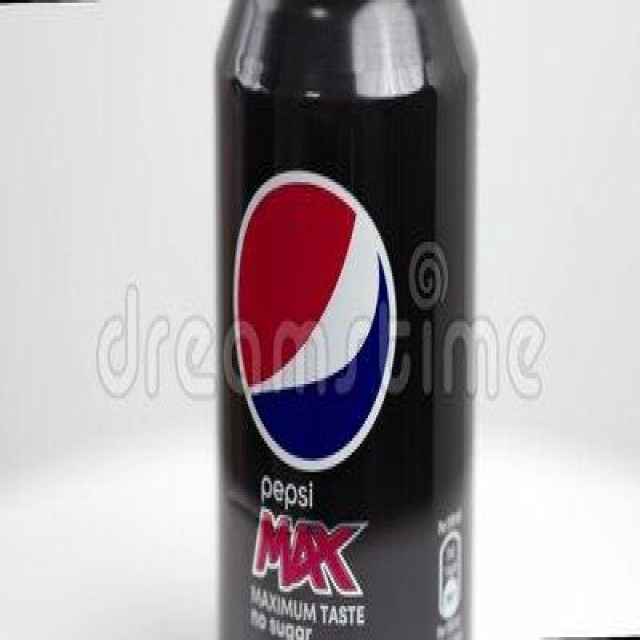pepsi: (229, 166, 398, 477)
